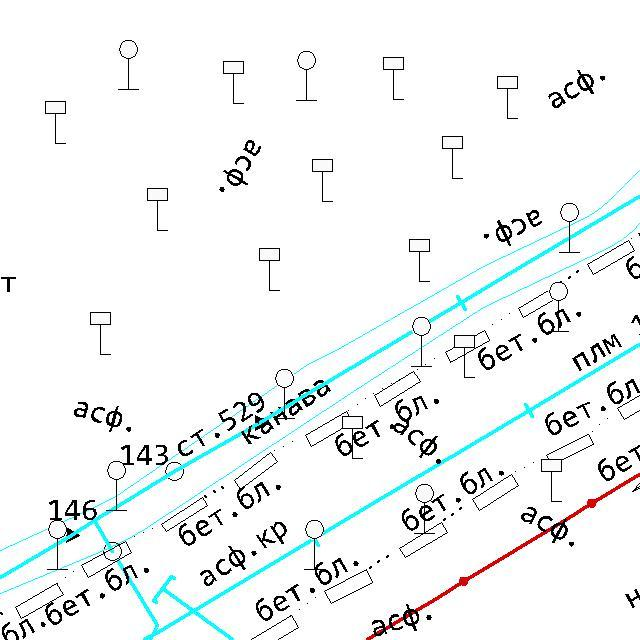asphalt: (216, 137, 264, 195), (518, 505, 576, 550), (199, 544, 258, 588), (547, 67, 607, 110), (393, 416, 442, 465), (482, 208, 542, 248), (371, 602, 433, 638), (72, 399, 132, 436)
sing: (115, 38, 141, 92), (294, 49, 318, 102), (105, 458, 128, 512), (303, 518, 326, 572), (43, 99, 69, 146), (273, 367, 296, 420), (452, 332, 477, 380), (88, 310, 113, 358), (539, 456, 564, 504), (559, 202, 581, 256), (548, 280, 570, 334), (410, 315, 432, 369), (221, 59, 246, 106), (257, 246, 282, 293), (340, 414, 365, 461), (46, 519, 68, 572), (413, 482, 435, 535), (381, 55, 406, 101), (495, 74, 520, 120), (145, 186, 170, 232), (440, 134, 464, 181), (310, 157, 334, 204), (408, 237, 431, 285)
